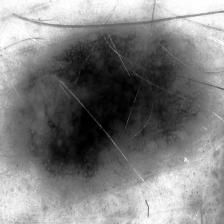Benign Marking or Mole: (11, 31, 201, 181)
